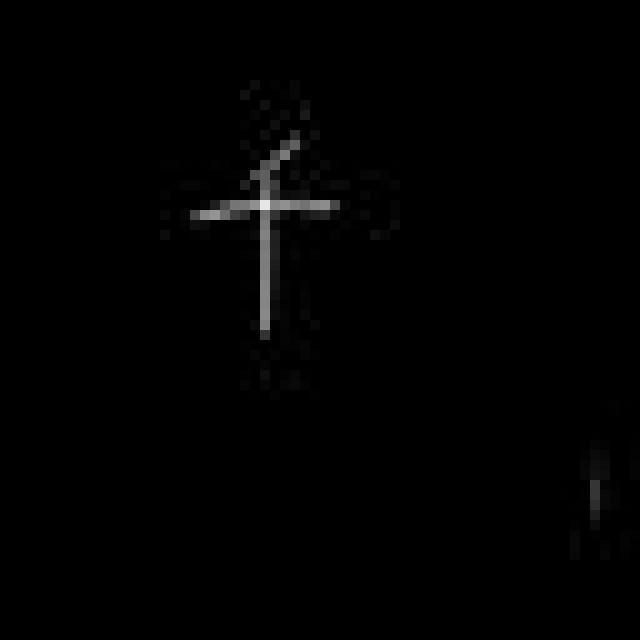1000 -a thousand-: (184, 133, 340, 340)
